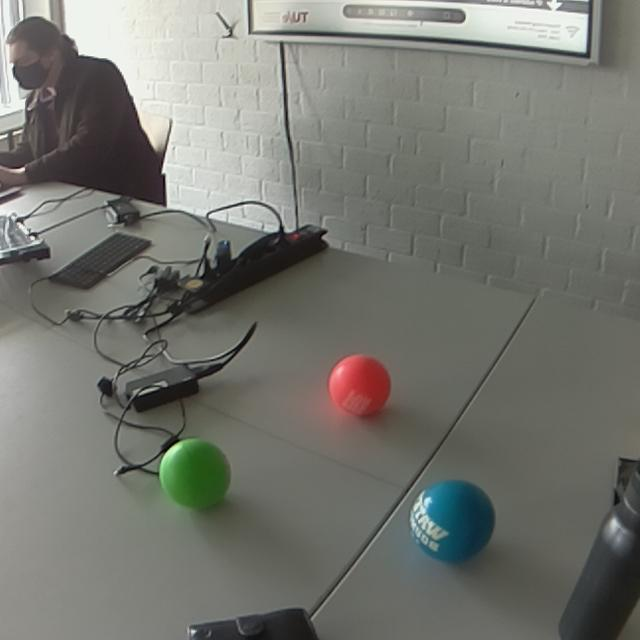ball: (158, 435, 235, 511), (322, 350, 392, 418)
